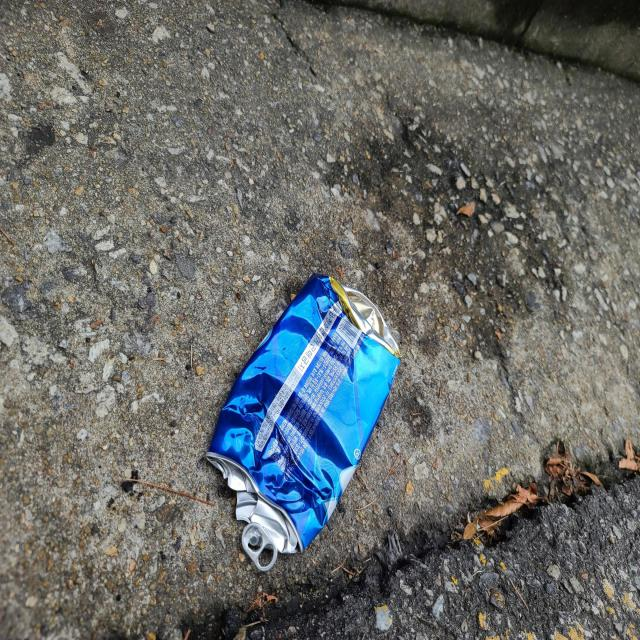can: (206, 274, 401, 572)
